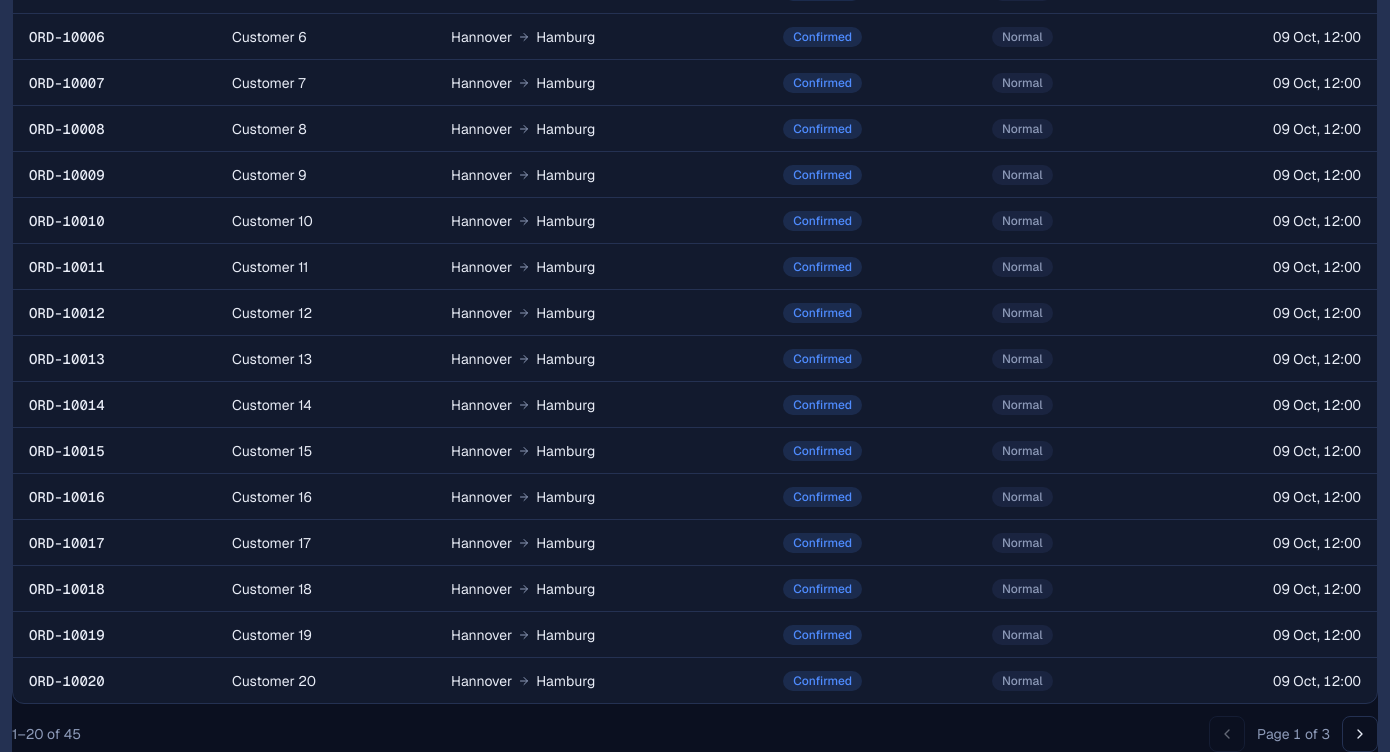
Test: Orders › pages through the results
(page scrolled)
Expected: the text "1–20 of 45" is shown, top-left (12, 724), bottom-right (81, 744)
Expected: the button named "Previous page" is disabled, top-left (1209, 716), bottom-right (1245, 751)
Click the button named "Next page": (1360, 734) top-left (1342, 716), bottom-right (1378, 751)
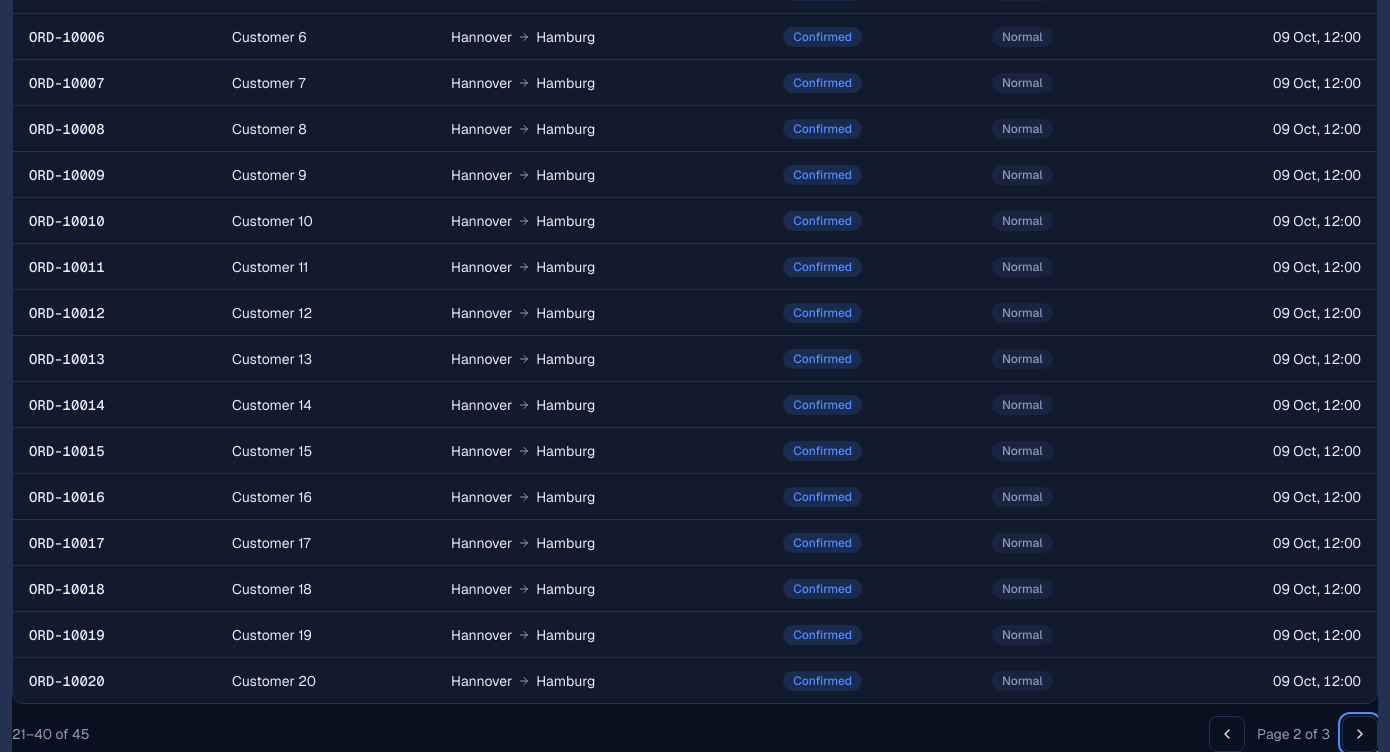
Expected: the text "21–40 of 45" is shown, top-left (12, 724), bottom-right (89, 744)
